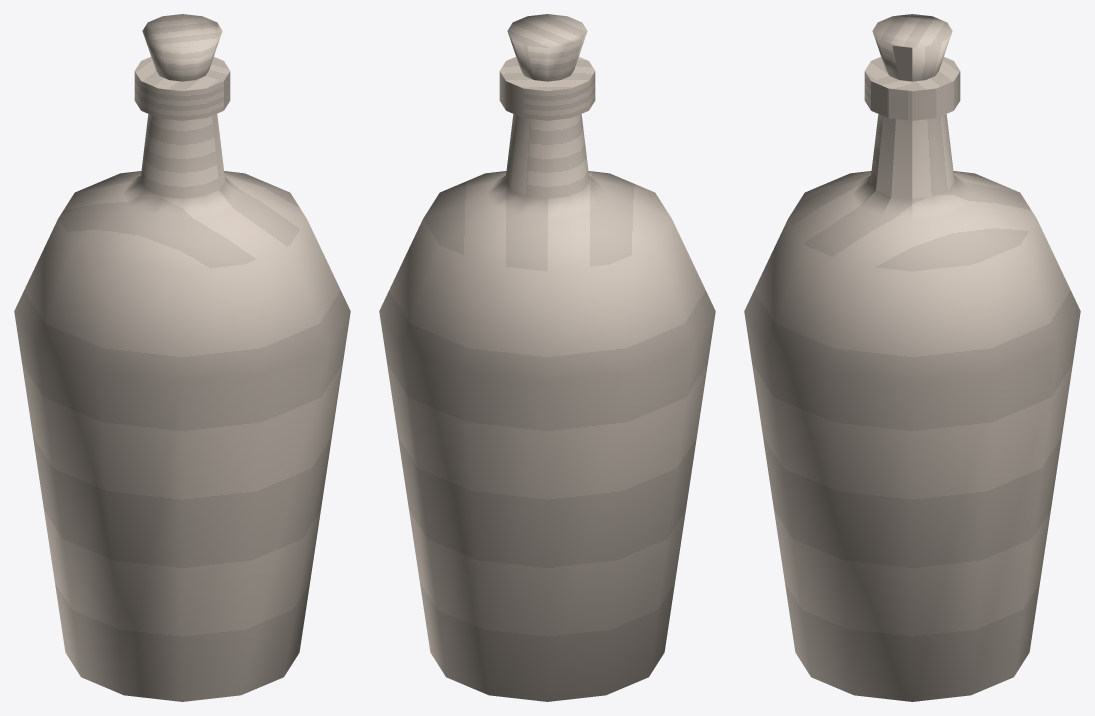
File: Des_Bottle.fbx
The picture shows the model from 3 angles, left to right: view 1: azimuth 30°, elevation 25°; view 2: azimuth 150°, elevation 25°; view 3: azimuth 270°, elevation 25°; orthographic projection.
Parts seen in each view (by area): view 1: pCylinder15; view 2: pCylinder15; view 3: pCylinder15.
Part boxes in pixels (box(x1,y1,x2,y2)): pCylinder15: box(14, 14, 350, 701); pCylinder15: box(379, 14, 715, 701); pCylinder15: box(744, 14, 1080, 701).
Size of the model in its own units: 0.1716 by 0.3497 by 0.1716.
